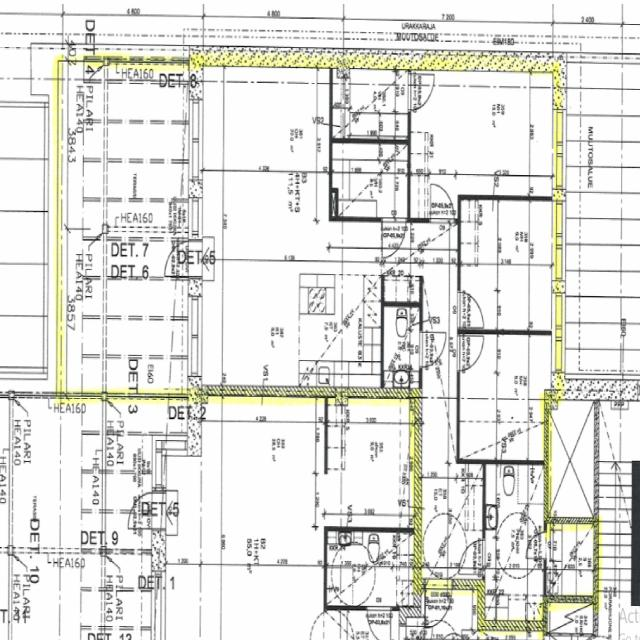door: (164, 242, 202, 278), (426, 580, 452, 630), (431, 183, 455, 223), (382, 218, 406, 258), (458, 292, 484, 328), (408, 74, 434, 109), (420, 332, 446, 367), (460, 542, 486, 575), (458, 337, 483, 371), (526, 532, 547, 559)
